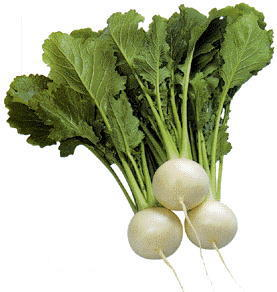turnip: (95, 3, 227, 210), (184, 198, 240, 274), (127, 204, 184, 269)
